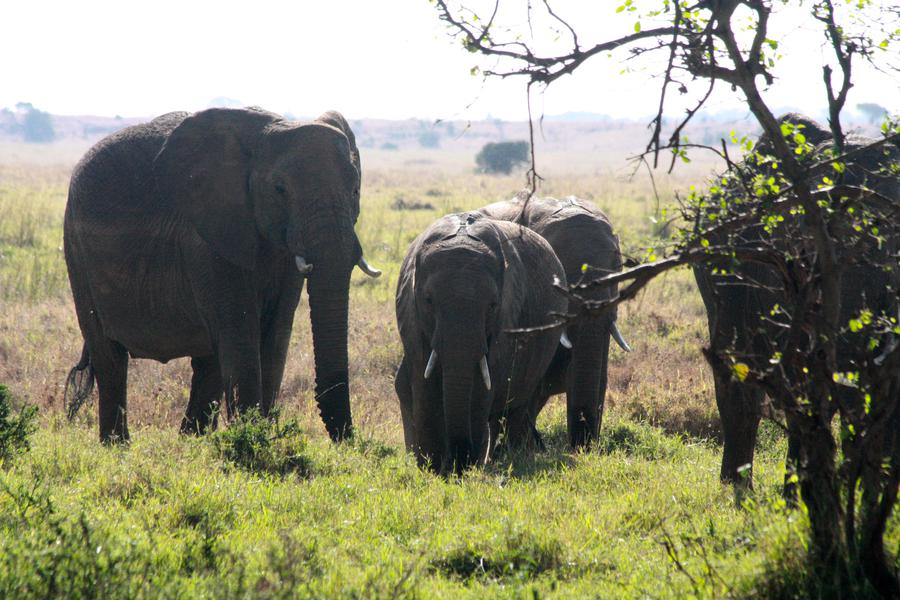elephant: (153, 96, 373, 299), (382, 208, 511, 403)
